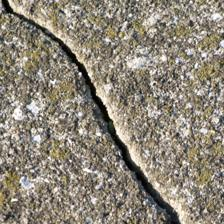Crack: (4, 5, 180, 221)
